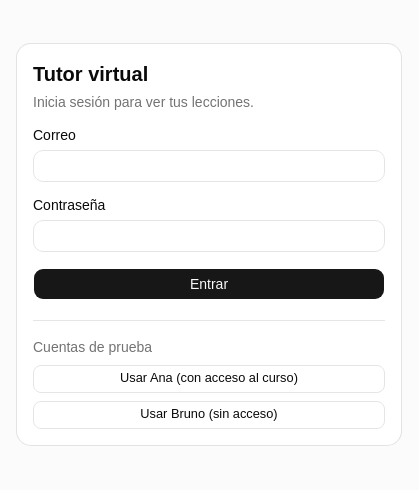
LoginPage › shows a generic message for wrong credentials
Step 1. Type "ana@demo.local" into the field labelled "Correo" → [209, 166], box left=33, top=150, right=385, bottom=182
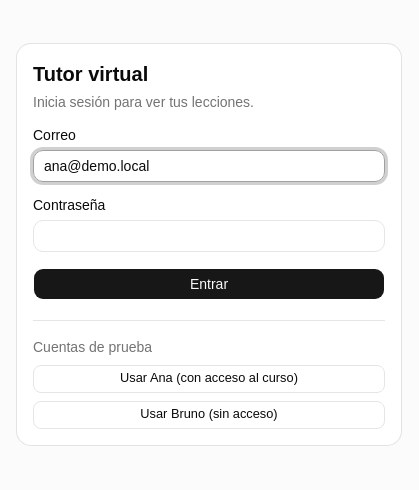
Step 2. Type "incorrecta" into the password field labelled "Contraseña" → [209, 236], box left=33, top=220, right=385, bottom=252
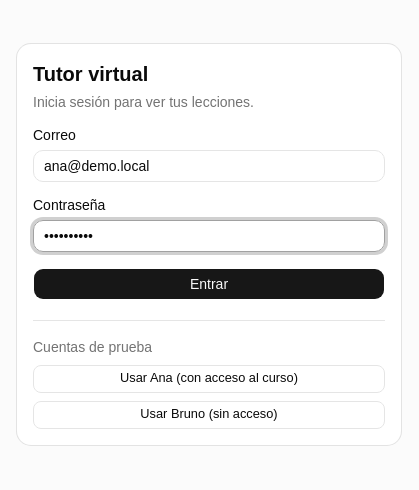
Step 3. Click the button "Entrar" → [209, 284], box left=33, top=268, right=385, bottom=300
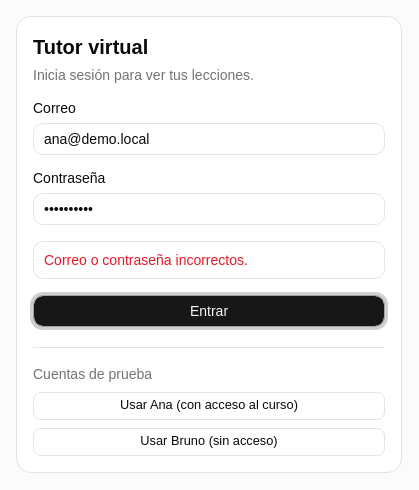
Result: the text "Correo o contraseña incorrectos." is shown at left=44, top=252, right=248, bottom=268
